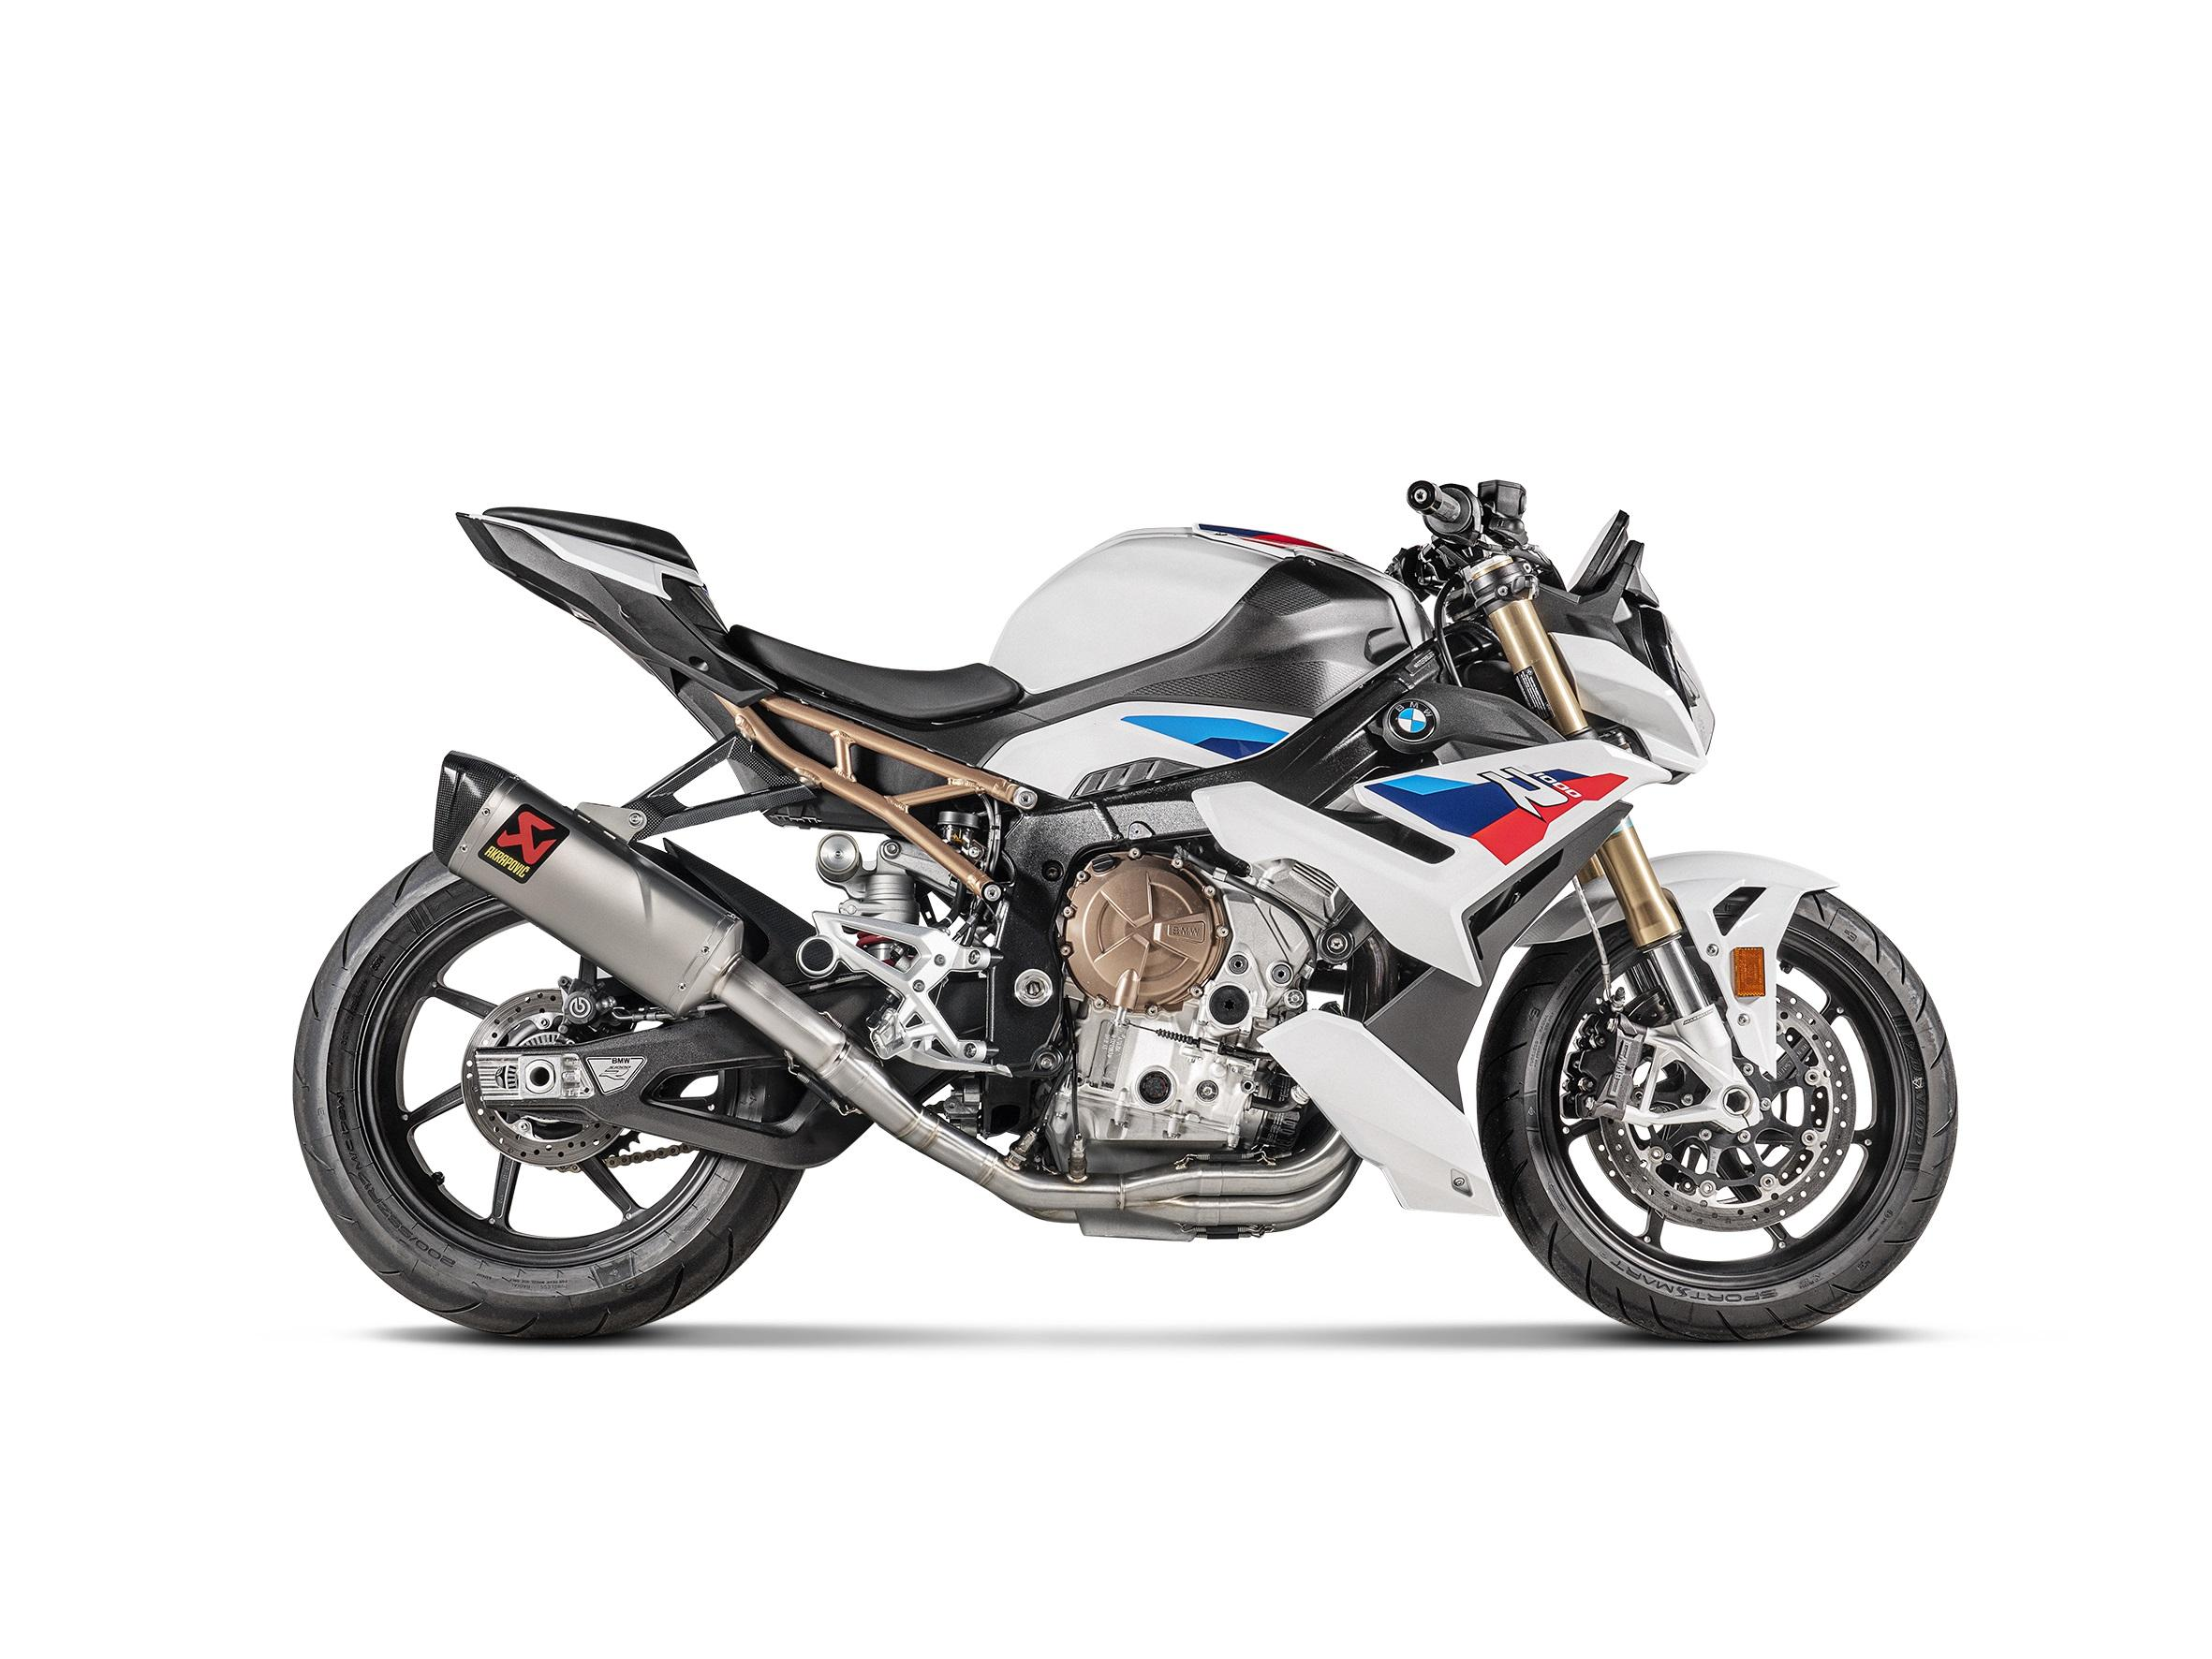engine-chasis: (797, 617, 1510, 1183), (816, 831, 920, 925), (840, 925, 917, 967)
exhaust: (432, 749, 1363, 1241), (1342, 931, 1400, 1023)
frontside: (1191, 542, 1841, 1218)
handlebar: (1384, 479, 1642, 687)
motorbike: (293, 479, 1959, 1342)
rearside: (455, 512, 1051, 946), (474, 1011, 875, 1169), (662, 836, 816, 985), (797, 976, 889, 1047), (884, 1056, 969, 1103)
seat: (729, 624, 1020, 725), (481, 507, 699, 573)
tank: (988, 523, 1435, 725)
wheel: (291, 850, 805, 1342), (1476, 889, 1959, 1344), (1572, 873, 1612, 1004), (544, 1143, 702, 1173), (784, 972, 870, 995)
